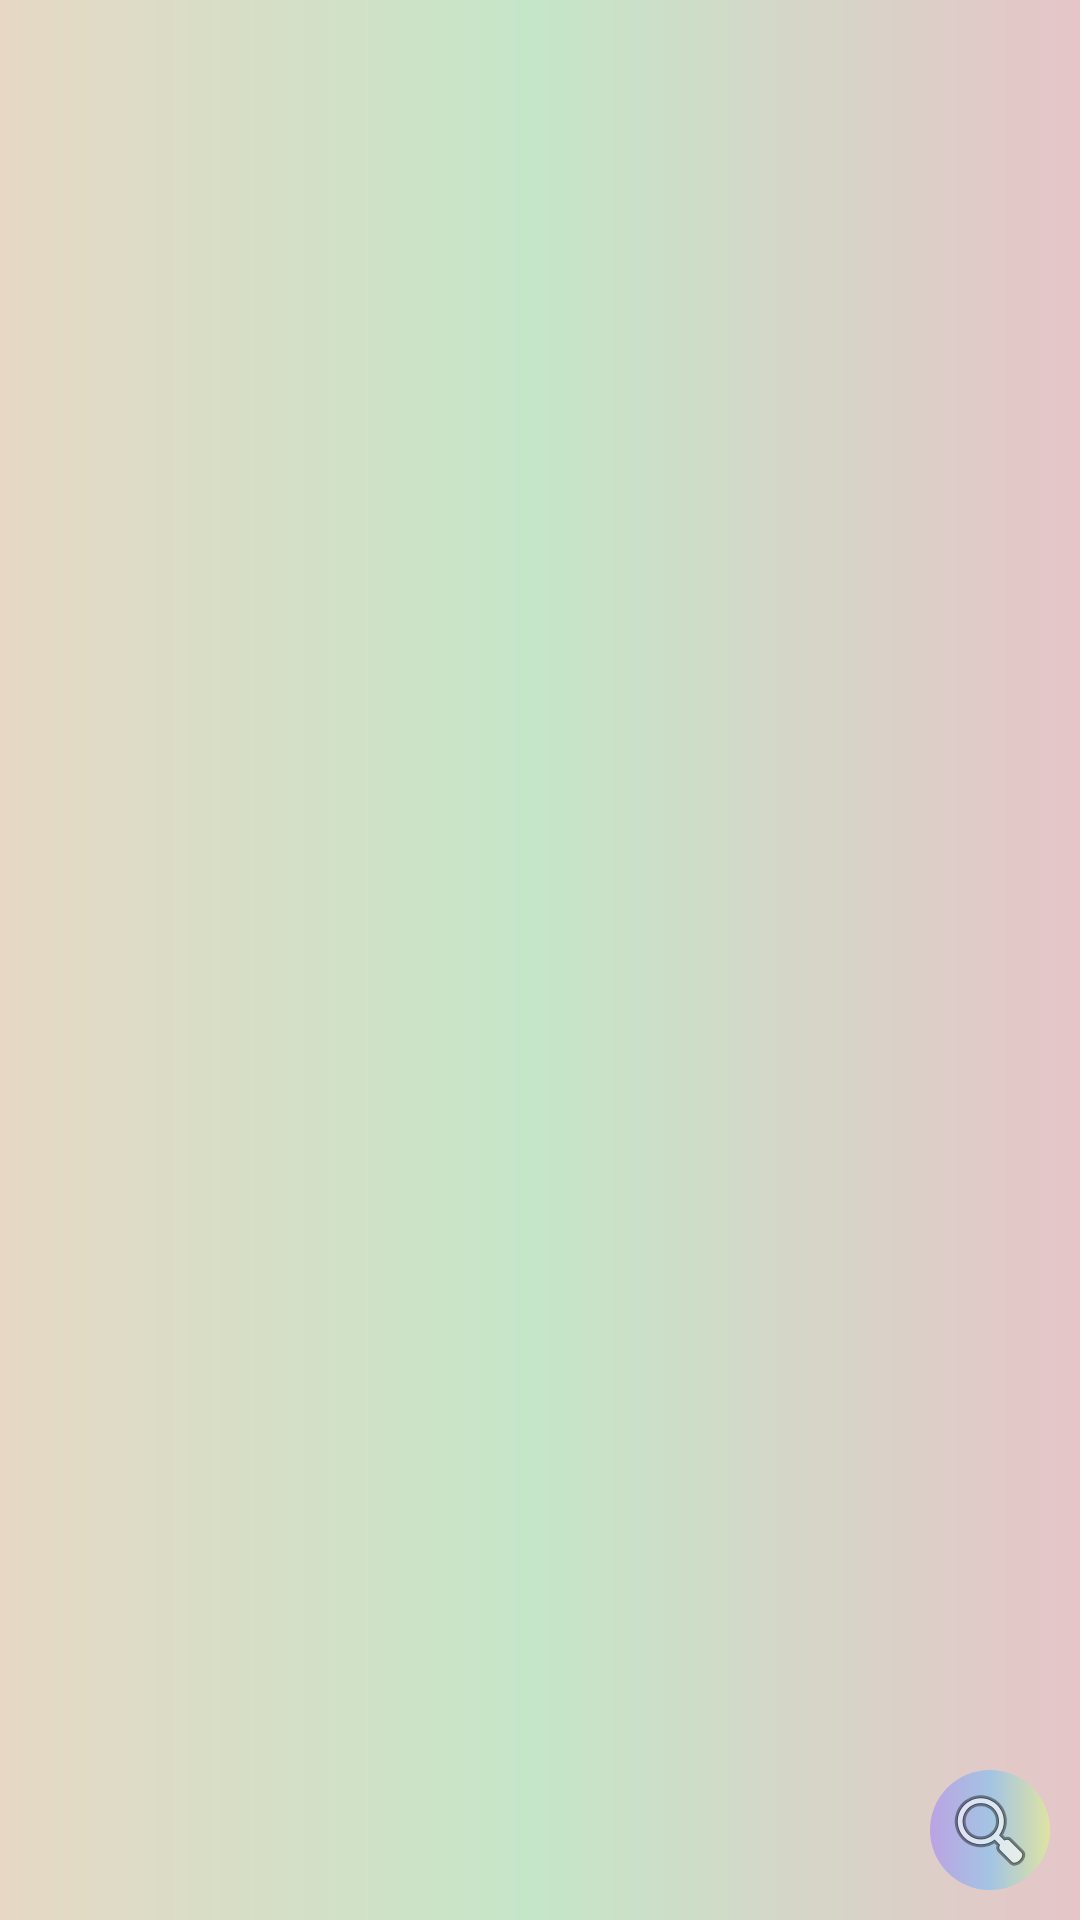

Icon bounding boxes for this 1080 × 1920 phone screenshot, format (x1, y1, x2, y2):
search: (930, 1770, 1050, 1890)
